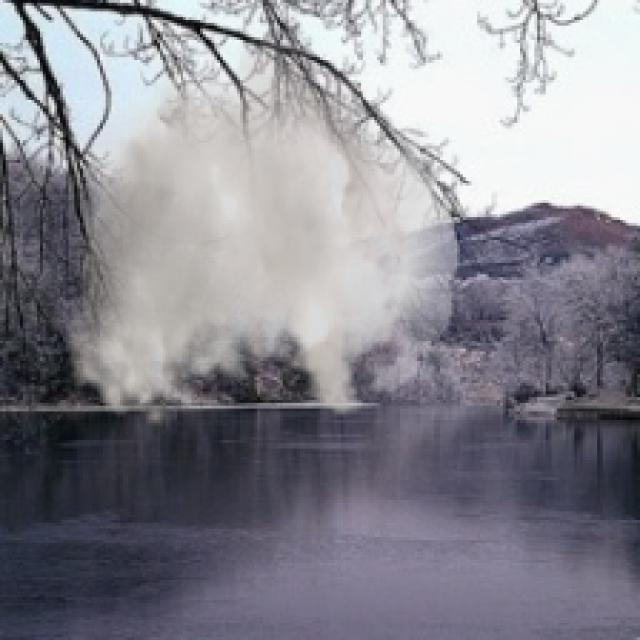Smoke: (66, 14, 460, 429)
